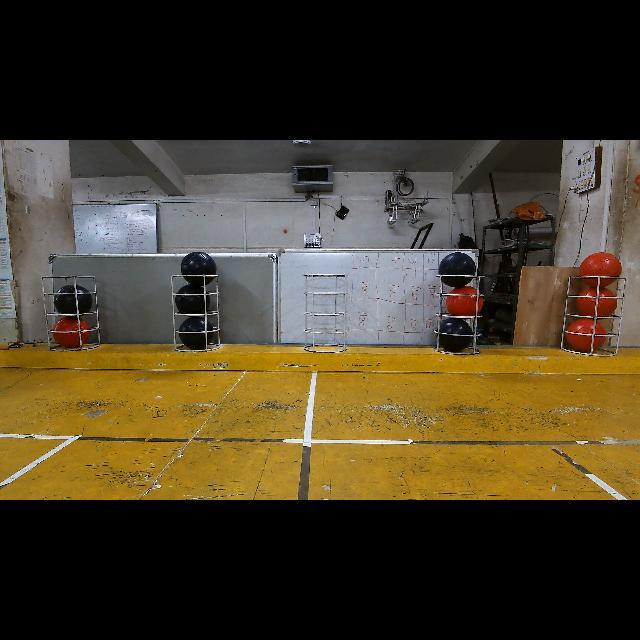P: (439, 252, 476, 288), (181, 252, 217, 288), (180, 316, 215, 350), (54, 285, 92, 316), (439, 318, 472, 352), (175, 285, 210, 315)
R: (579, 252, 621, 288), (568, 319, 608, 352), (575, 287, 617, 318), (52, 316, 90, 349), (446, 286, 484, 316)
S: (560, 266, 628, 360), (38, 270, 106, 358), (167, 269, 230, 353), (429, 271, 485, 359), (303, 266, 353, 360)
